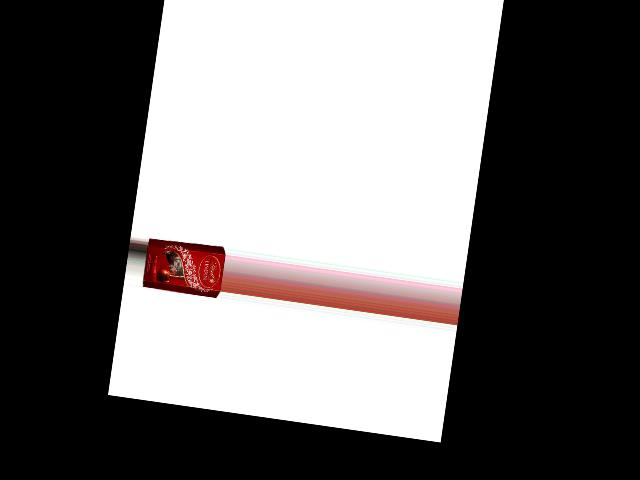chocolate: (140, 235, 226, 302)
